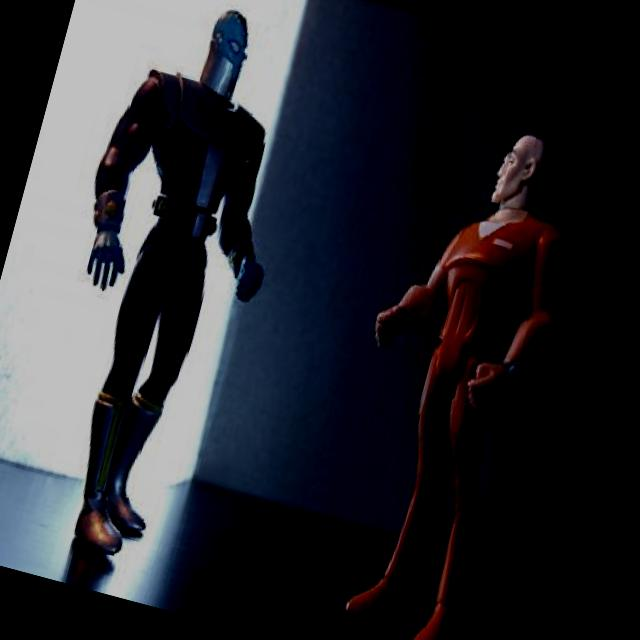Person: (5, 0, 334, 579), (291, 103, 610, 640)
